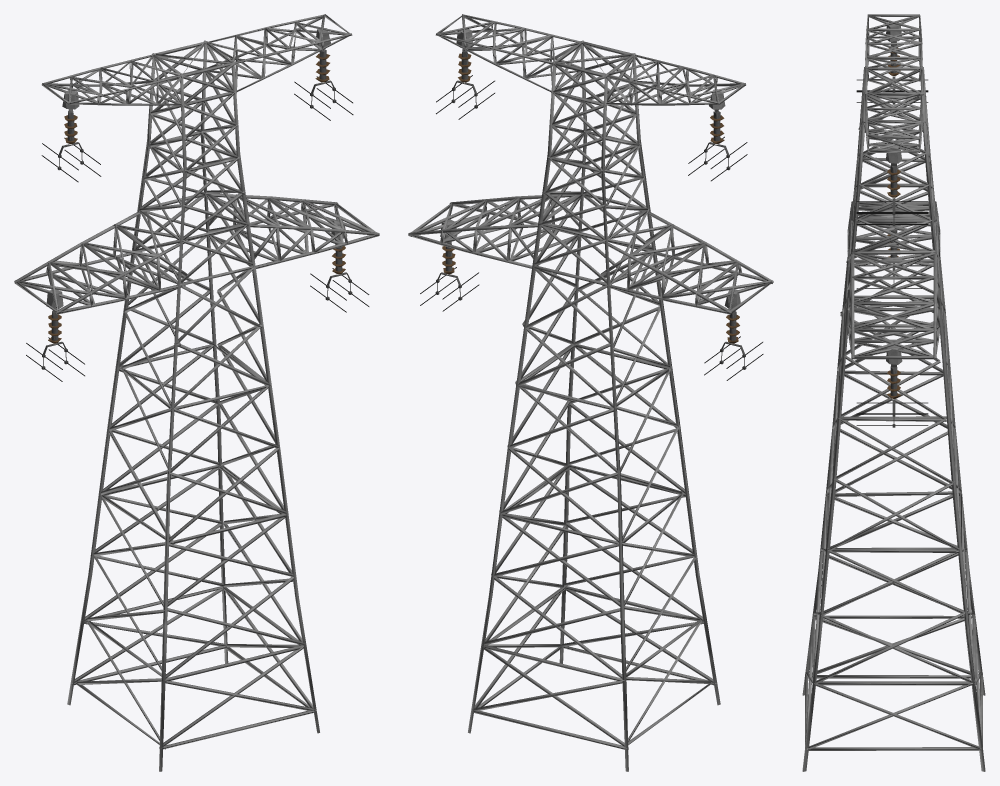
File: pylon.glb
3 views of the same model, side by side, from view 1: azimuth 30°, elevation 25°; view 2: azimuth 150°, elevation 25°; view 3: azimuth 270°, elevation 25° (orthographic).
Visible parts, largest first — view 1: Pylon; view 2: Pylon; view 3: Pylon.
Boxes of the visible parts, bbox=[...] form: Pylon: bbox=[14, 14, 379, 771]; Pylon: bbox=[408, 14, 773, 771]; Pylon: bbox=[802, 14, 985, 771].
Size of the model in its own units: 10.35 by 20.25 by 5.14.
Materials: 6 (6 with a texture image).
